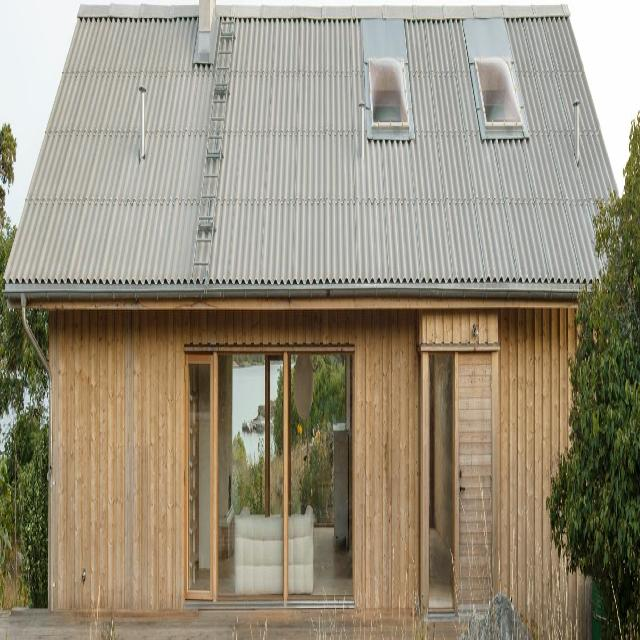door: (458, 348, 496, 618), (182, 348, 218, 618)
plant: (547, 111, 640, 633), (0, 107, 48, 609)
wall: (2, 2, 640, 639)
windows: (182, 343, 356, 618)
